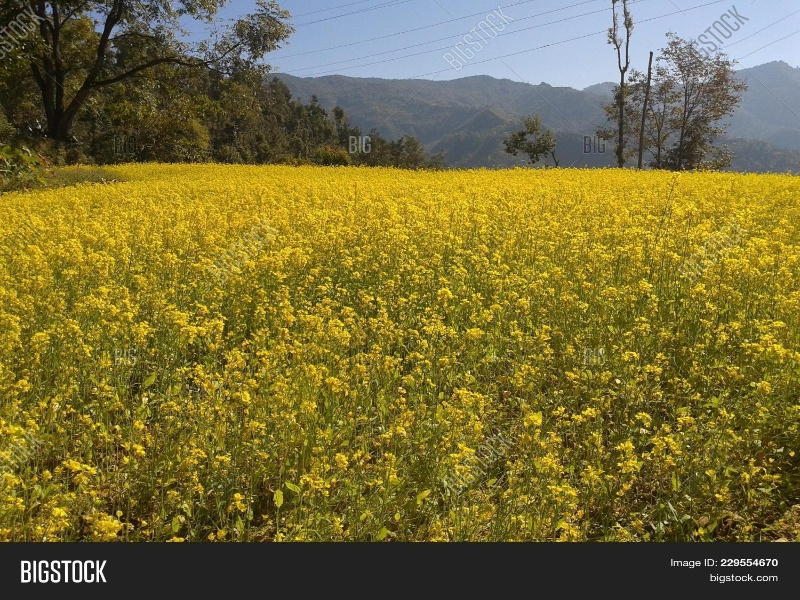mustard: (1, 181, 789, 492)
